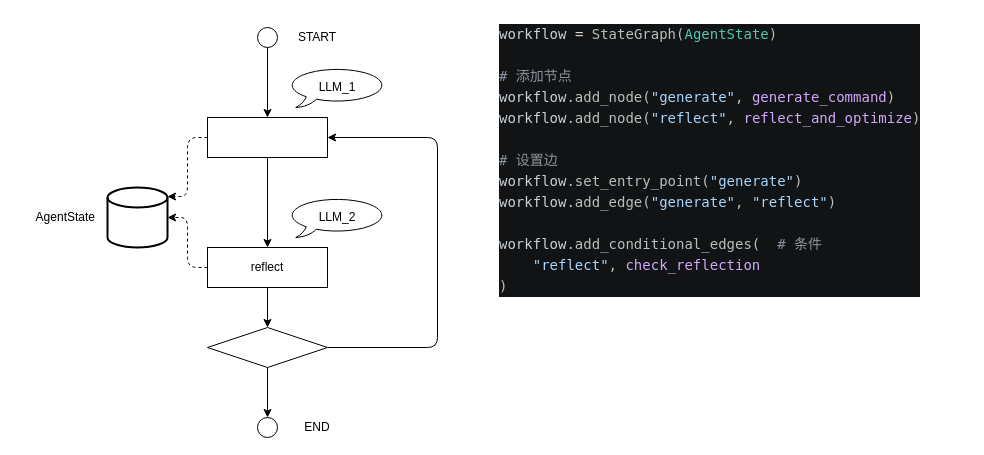
Some shapes in this 984 by 455 pixel diagram are drawn without their labels. Here are the shapes that lost their labels. From the top down, the centre of each, then its label:
the point at 267,137: generate
the point at 267,347: check_reflection
